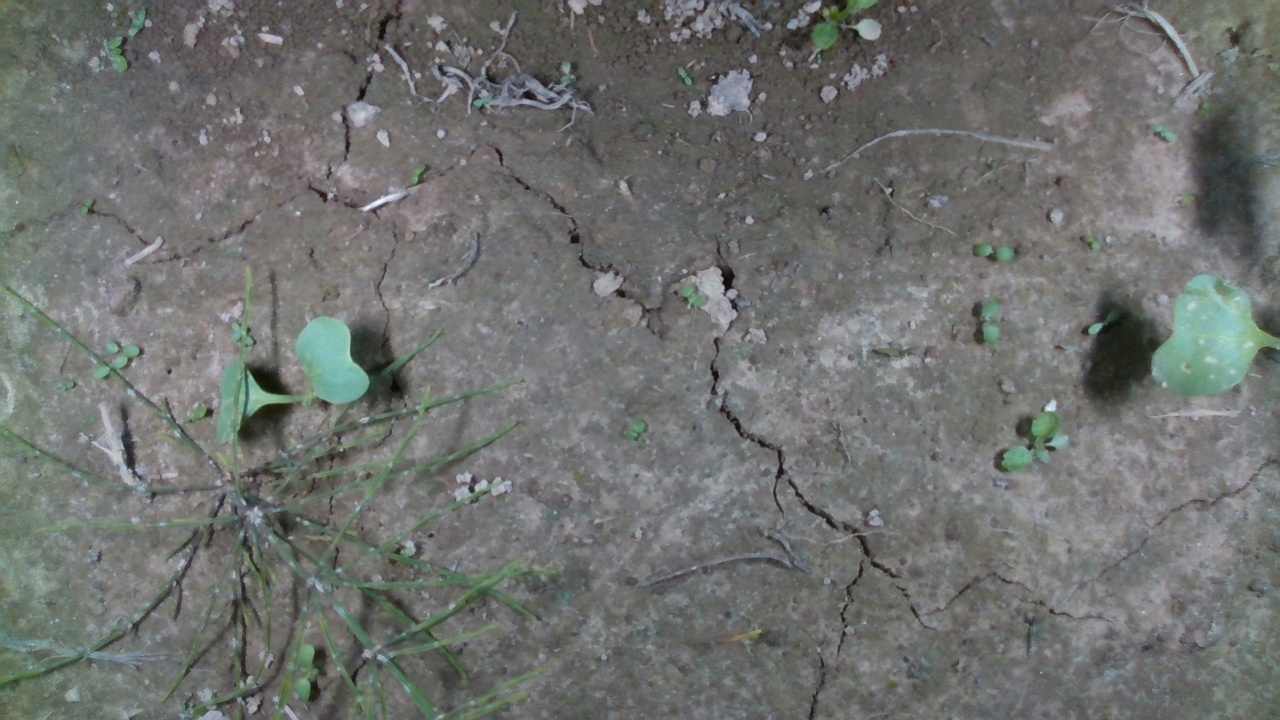weed: (971, 241, 1017, 266), (1086, 306, 1123, 336), (979, 296, 1000, 345), (677, 282, 710, 309), (106, 34, 128, 73), (1145, 119, 1178, 145), (127, 4, 148, 37), (623, 416, 647, 442), (407, 160, 426, 186), (1080, 233, 1102, 253), (676, 65, 693, 87)
